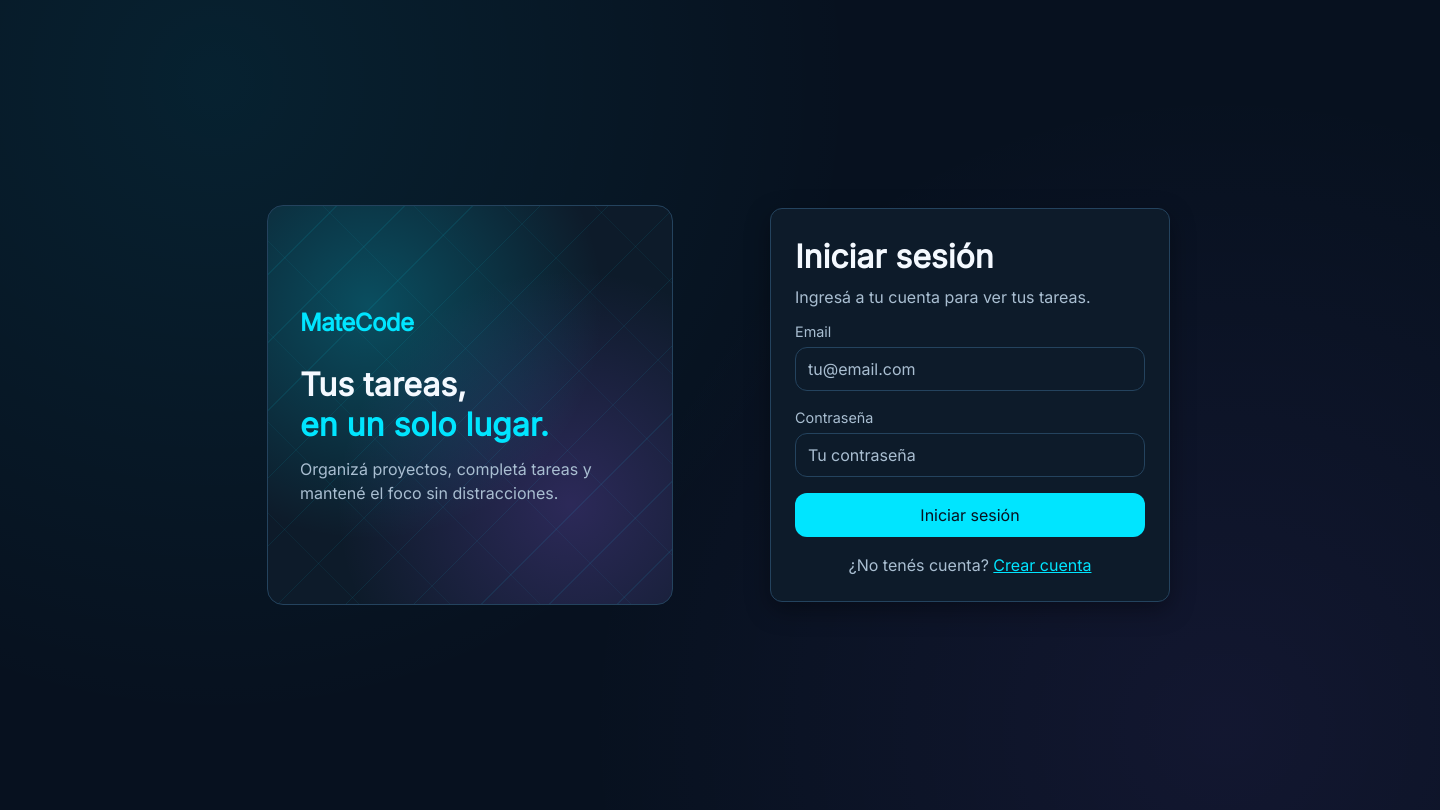
LoginPage › muestra un error comprensible si el login falla
Type "user@matecode.com" into the field labelled "Email" at (970, 369), box x1=795 y1=347 x2=1145 y2=391
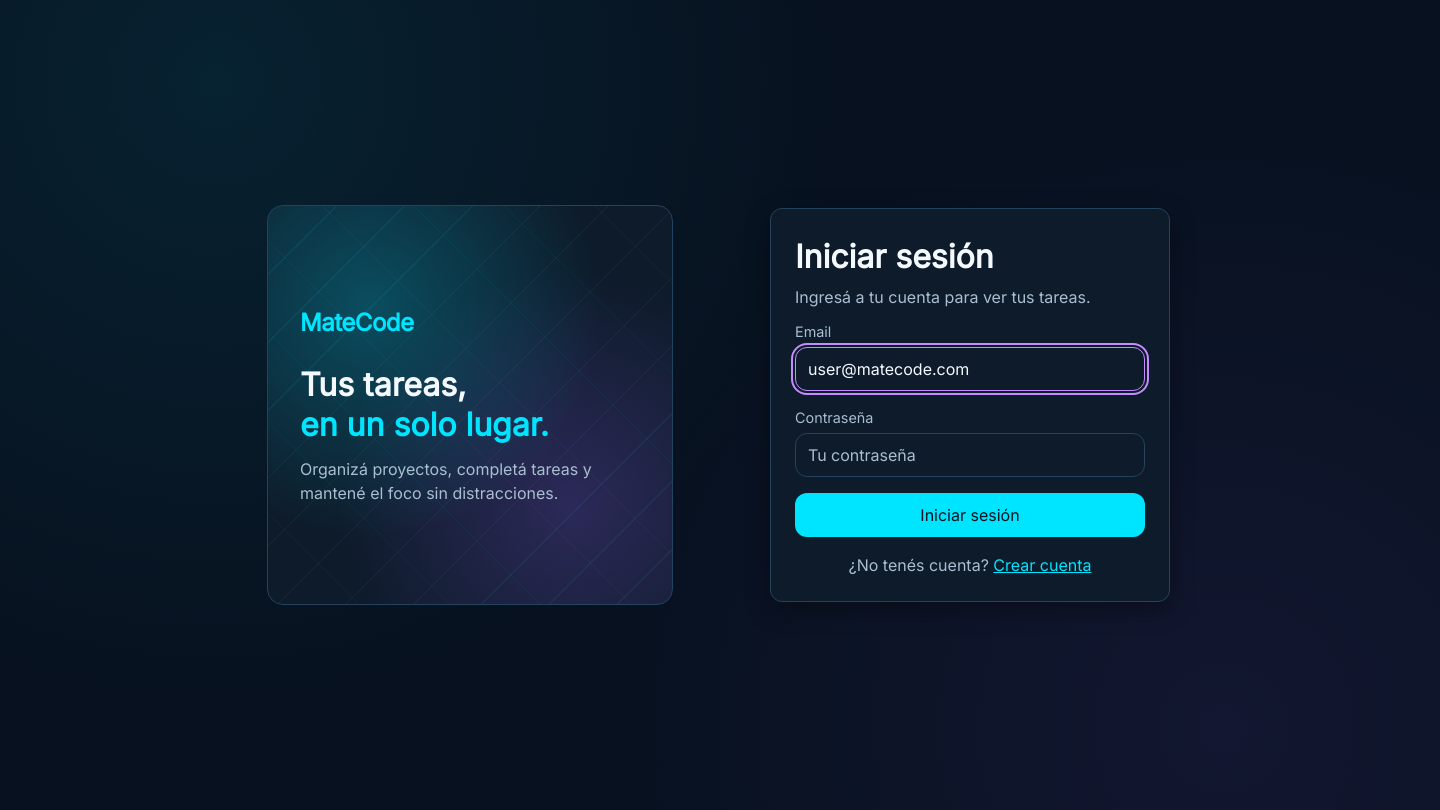
Type "123456" into the password field labelled "Contraseña" at (970, 455), box x1=795 y1=433 x2=1145 y2=477
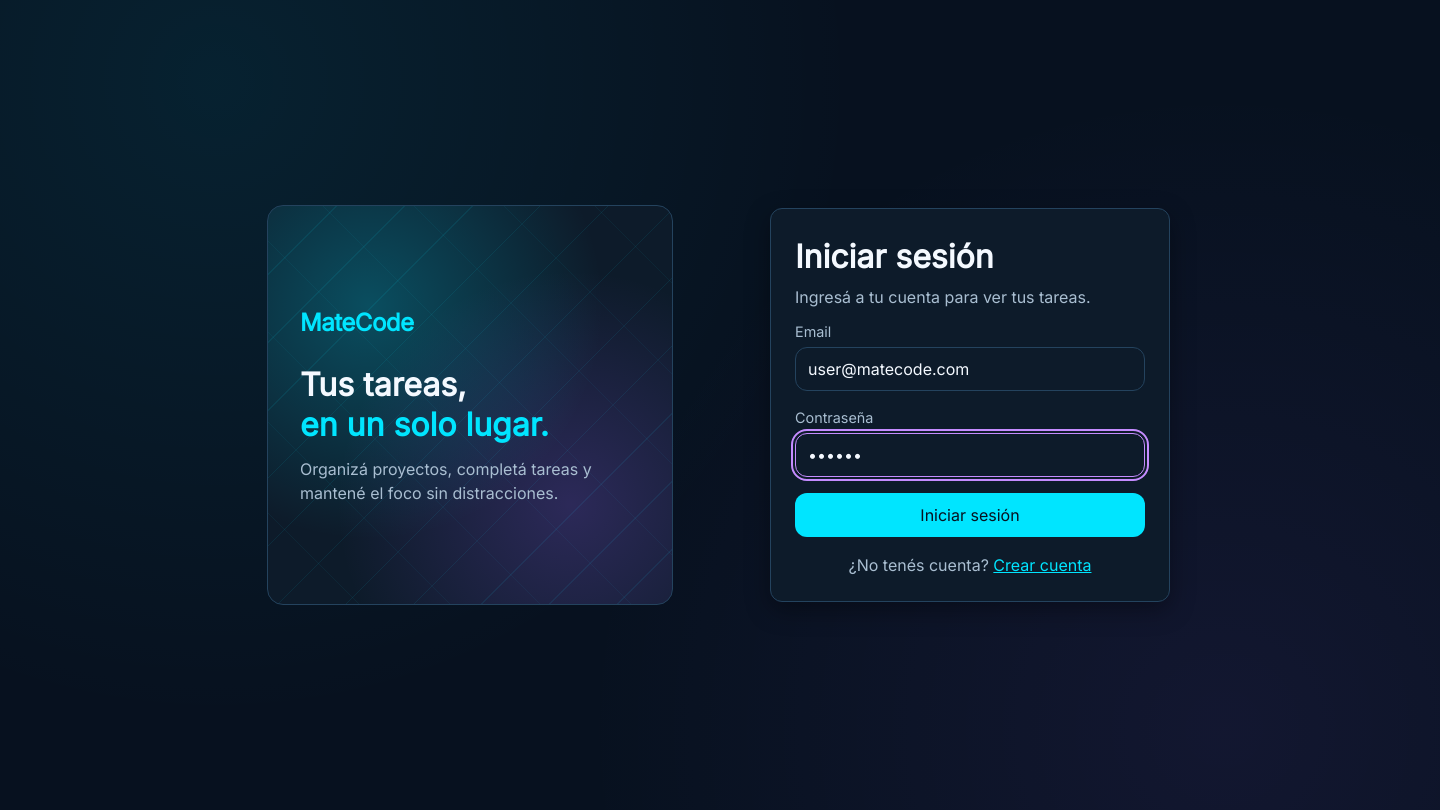
Click the button "Iniciar sesión" at (970, 515), box x1=795 y1=493 x2=1145 y2=537
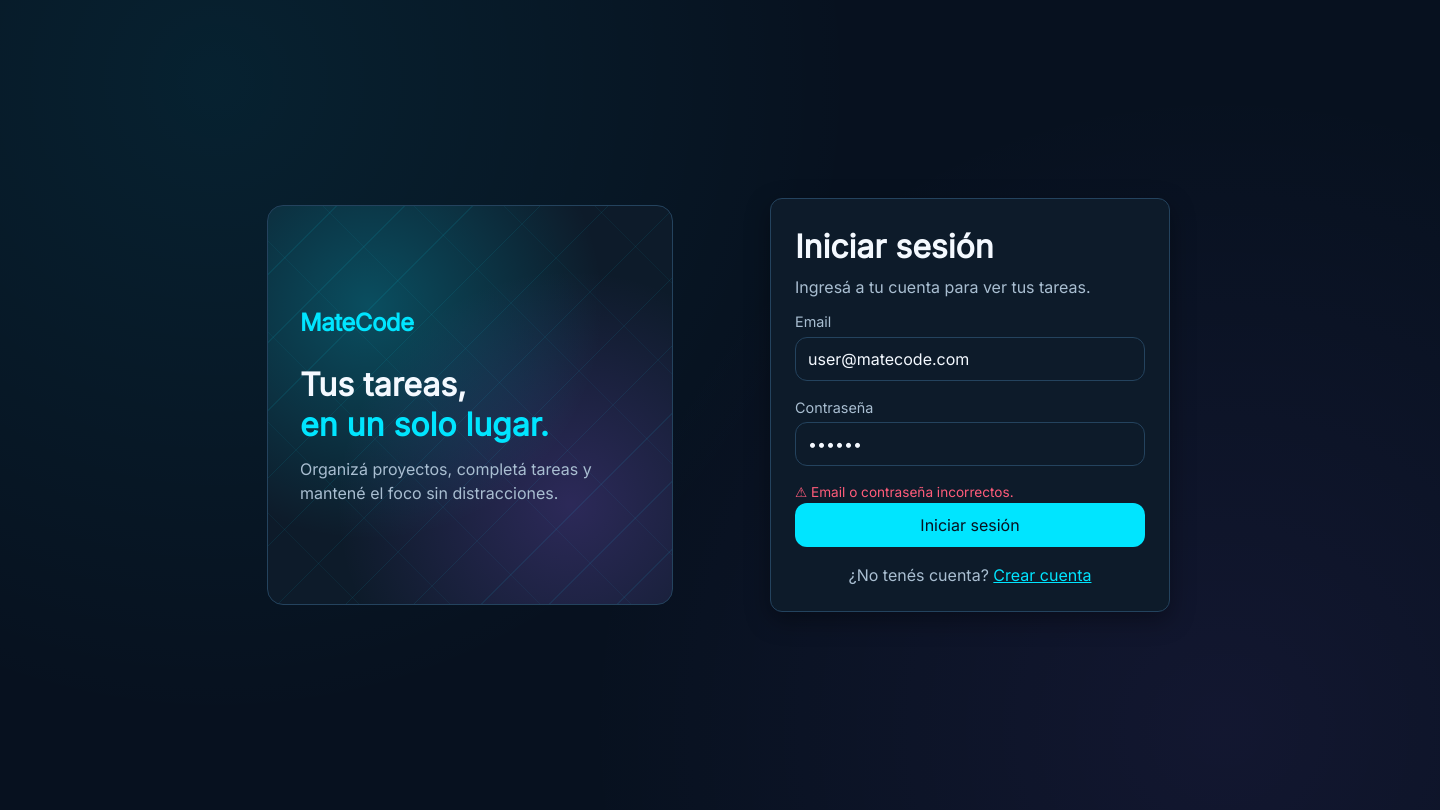
Now the text "⚠ Email o contraseña incorrectos." is shown, box x1=795 y1=484 x2=1014 y2=500
